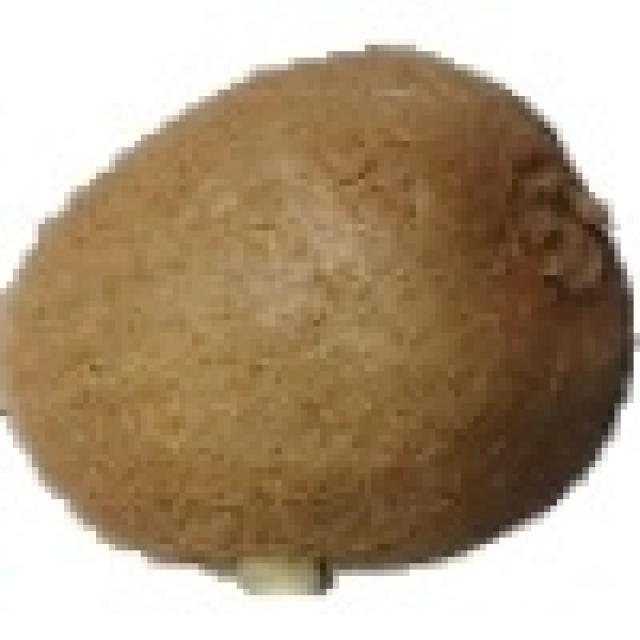kiwi: (6, 38, 621, 576)
